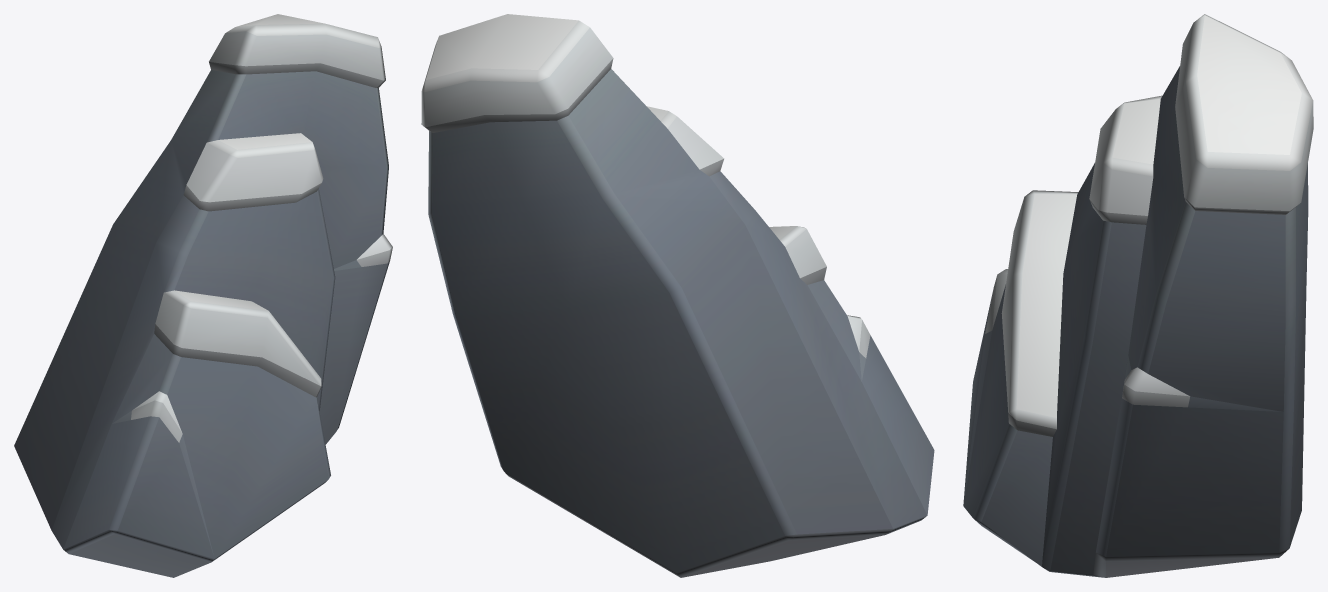
File: rock_snow_028.fbx
3 views of the same model, side by side, from view 1: azimuth 30°, elevation 25°; view 2: azimuth 150°, elevation 25°; view 3: azimuth 270°, elevation 25° (orthographic). The views are drawn at different scales.
Visible parts, largest first — view 1: rock_snow_028; view 2: rock_snow_028; view 3: rock_snow_028.
Boxes of the visible parts, x1,y1,x2,y2 form: rock_snow_028: (14, 14, 392, 577); rock_snow_028: (421, 14, 934, 577); rock_snow_028: (963, 14, 1313, 577).
Bounding box in the file's own units: 624 × 750 × 378.
